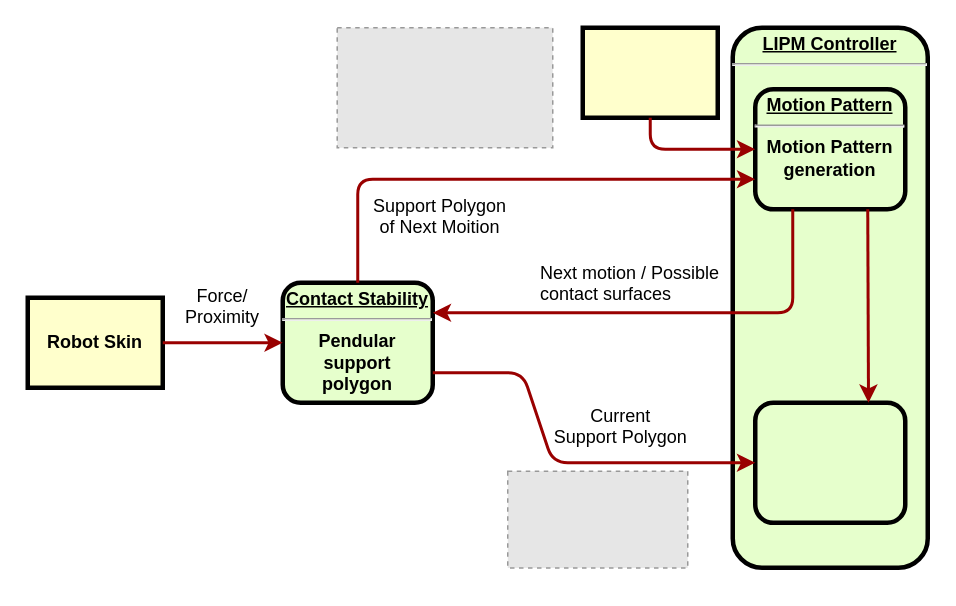
Image size: 956x606. Some labels were removed from this diagram. Grey dashed boxes stand in for pictures. The centre of each missing label's shape, as x and y in pixels:
Stabilizer Hip position compensation: (x=829, y=462)
Task space: (x=649, y=72)
